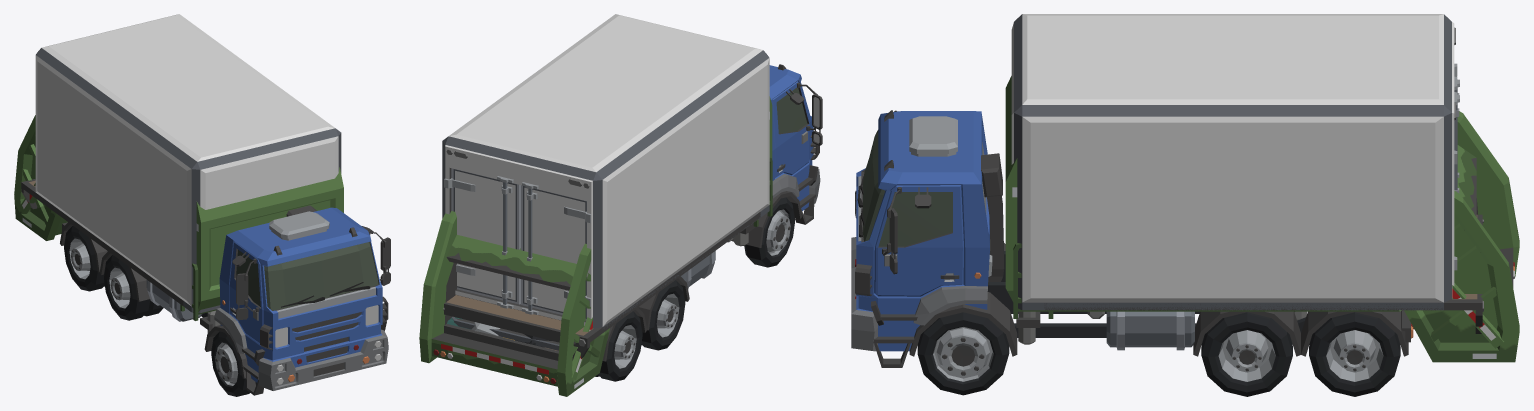
Rendered from SM_Veh_Truck_01.fbx.
3 views of the same model, side by side, from view 1: azimuth 30°, elevation 25°; view 2: azimuth 150°, elevation 25°; view 3: azimuth 270°, elevation 25° (orthographic). The views are drawn at different scales.
Parts seen in each view (by area): view 1: SM_Veh_Truck_Attachment_Delivery_01, SM_Veh_Truck_01, SM_Veh_Truck_Attachment_Garbage_01, SM_Veh_Truck_Glass, SM_Veh_Truck_Wheel_rr_01, SM_Veh_Truck_Wheel_rr_02, SM_Veh_Truck_Wheel_fr, SM_Veh_Truck_Attachment_Flatbed_01; view 2: SM_Veh_Truck_Attachment_Delivery_01, SM_Veh_Truck_Attachment_Garbage_01, SM_Veh_Truck_01, SM_Veh_Truck_Attachment_Delivery_Door_L, SM_Veh_Truck_Attachment_Delivery_Door_R, SM_Veh_Truck_Attachment_Flatbed_01, SM_Veh_Truck_Attachment_Garbage_Lid, SM_Veh_Truck_Wheel_rr_01, SM_Veh_Truck_Wheel_rr_02, SM_Veh_Truck_Wheel_fr, SM_Veh_Truck_Glass, SM_Veh_Truck_Attachment_Garbage_Pile; view 3: SM_Veh_Truck_Attachment_Delivery_01, SM_Veh_Truck_01, SM_Veh_Truck_Attachment_Garbage_01, SM_Veh_Truck_Wheel_rl_02, SM_Veh_Truck_Wheel_rl_01, SM_Veh_Truck_Wheel_fl, SM_Veh_Truck_Glass, SM_Veh_Truck_Attachment_Flatbed_01, SM_Veh_Truck_Attachment_Garbage_Lid.
Boxes of the visible parts, <box> form: SM_Veh_Truck_Attachment_Delivery_01: <box>35,14,341,313</box>; SM_Veh_Truck_01: <box>60,205,390,395</box>; SM_Veh_Truck_Attachment_Garbage_01: <box>14,115,343,320</box>; SM_Veh_Truck_Glass: <box>236,242,378,310</box>; SM_Veh_Truck_Wheel_rr_01: <box>103,255,163,320</box>; SM_Veh_Truck_Wheel_rr_02: <box>64,226,104,291</box>; SM_Veh_Truck_Wheel_fr: <box>211,331,256,396</box>; SM_Veh_Truck_Attachment_Flatbed_01: <box>21,179,183,305</box>; SM_Veh_Truck_Attachment_Delivery_01: <box>442,14,769,350</box>; SM_Veh_Truck_Attachment_Garbage_01: <box>419,96,772,396</box>; SM_Veh_Truck_01: <box>602,64,822,361</box>; SM_Veh_Truck_Attachment_Delivery_Door_L: <box>451,168,520,304</box>; SM_Veh_Truck_Attachment_Delivery_Door_R: <box>520,185,586,320</box>; SM_Veh_Truck_Attachment_Flatbed_01: <box>443,212,760,360</box>; SM_Veh_Truck_Attachment_Garbage_Lid: <box>446,235,576,290</box>; SM_Veh_Truck_Wheel_rr_01: <box>641,280,685,350</box>; SM_Veh_Truck_Wheel_rr_02: <box>595,311,642,381</box>; SM_Veh_Truck_Wheel_fr: <box>744,197,795,267</box>; SM_Veh_Truck_Glass: <box>776,87,807,133</box>; SM_Veh_Truck_Attachment_Garbage_Pile: <box>447,317,558,350</box>; SM_Veh_Truck_Attachment_Delivery_01: <box>1011,14,1459,310</box>; SM_Veh_Truck_01: <box>851,110,1413,367</box>; SM_Veh_Truck_Attachment_Garbage_01: <box>1005,76,1519,362</box>; SM_Veh_Truck_Wheel_rl_02: <box>1309,312,1400,396</box>; SM_Veh_Truck_Wheel_rl_01: <box>1201,312,1292,396</box>; SM_Veh_Truck_Wheel_fl: <box>917,312,1009,395</box>; SM_Veh_Truck_Glass: <box>863,130,952,246</box>; SM_Veh_Truck_Attachment_Flatbed_01: <box>1044,214,1483,333</box>; SM_Veh_Truck_Attachment_Garbage_Lid: <box>1454,145,1476,216</box>.
Bounding box in the file's own units: 275 × 376 × 763.
